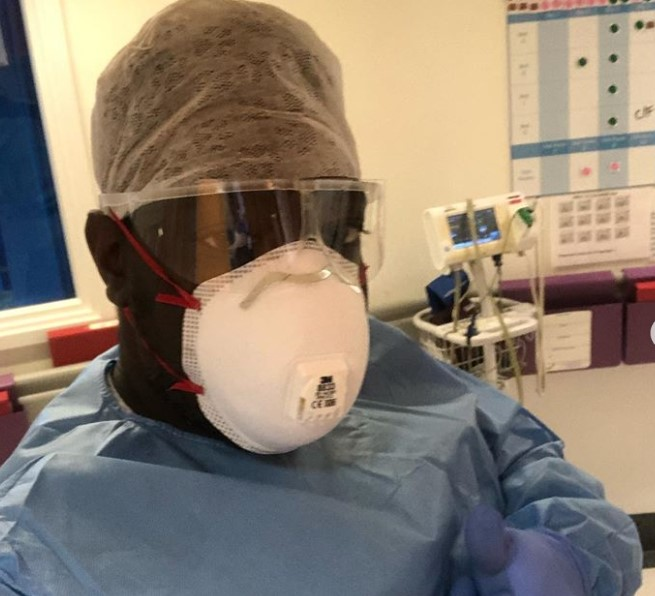face_with_mask: (85, 0, 390, 466)
